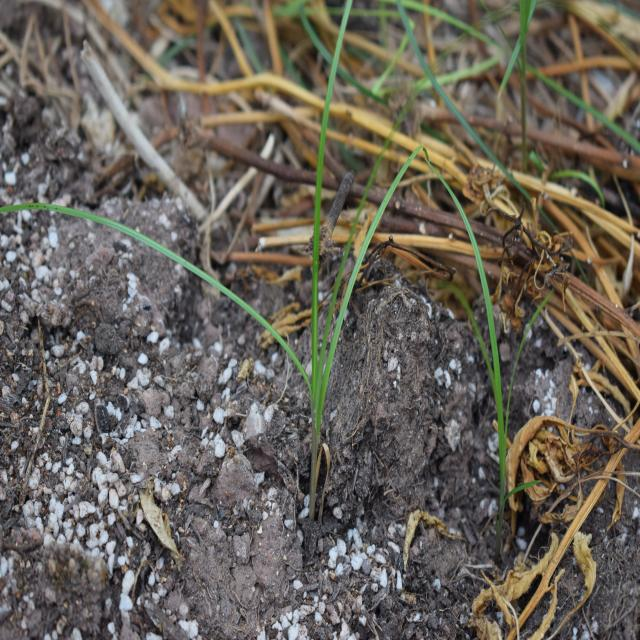sedge: (40, 76, 381, 460)
